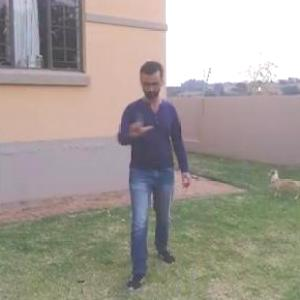land_hand: (126, 106, 154, 140)
